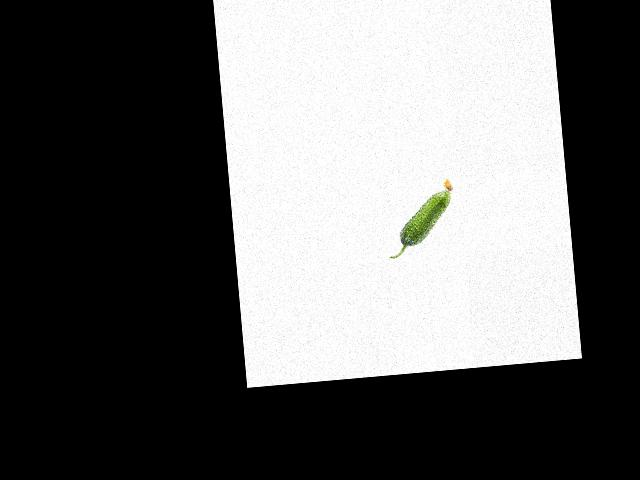cucumber: (383, 178, 458, 258)
